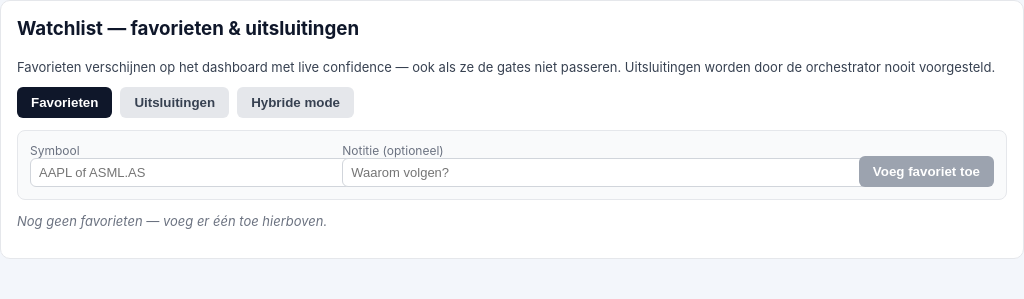
Scenario: WatchlistPreferencesSettings › shows an error message when the save mutation fails
Expected: the text "Nog geen favorieten — voeg er één toe hierboven." is shown, [17, 213, 327, 229]
Type "AAPL" into the field with test id "watchlist-favorite-input-symbol".
click(191, 172); type("AAPL")  # box [30, 158, 352, 187]
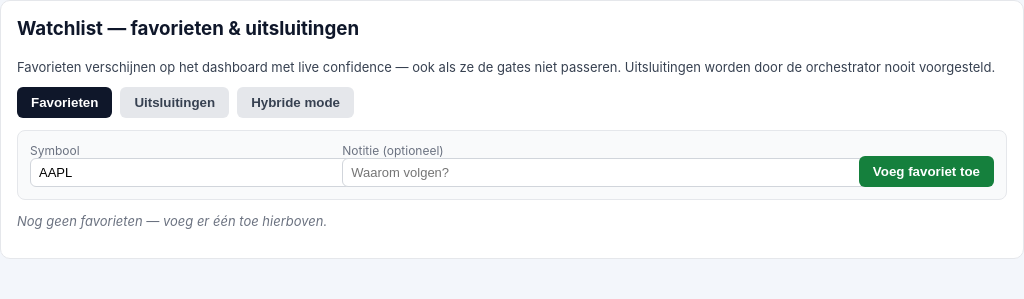
Click the button with test id "watchlist-favorite-submit".
click(926, 171)  # box [859, 156, 994, 187]
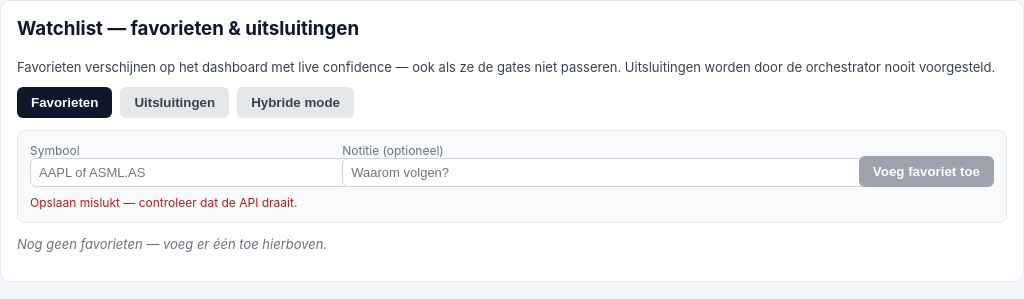
Result: the text with test id "watchlist-favorite-error" shows "Opslaan mislukt" at [30, 195, 297, 210]
